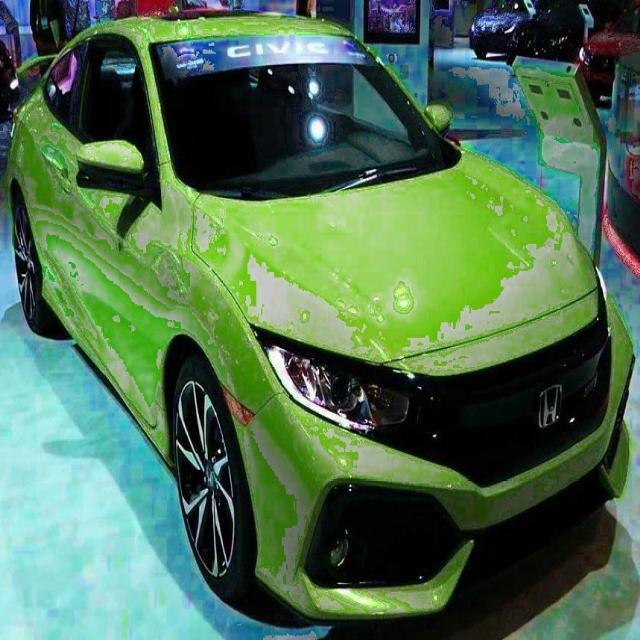green: (8, 15, 634, 621)
